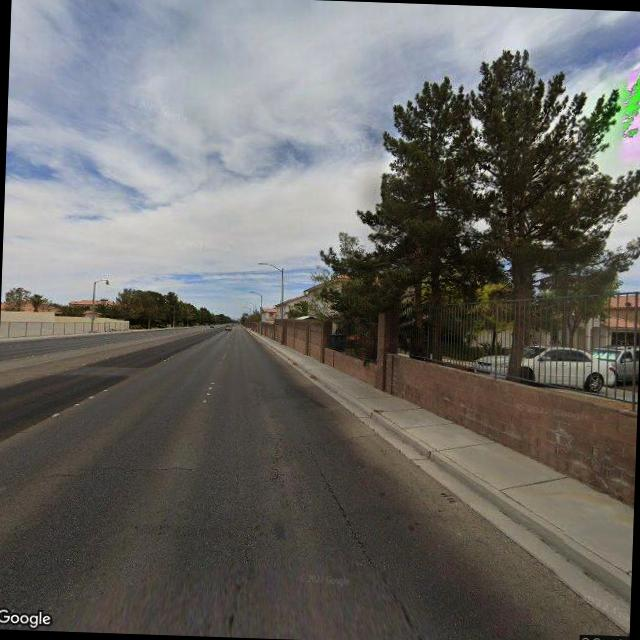crack: (304, 445, 378, 563), (19, 452, 240, 488)
